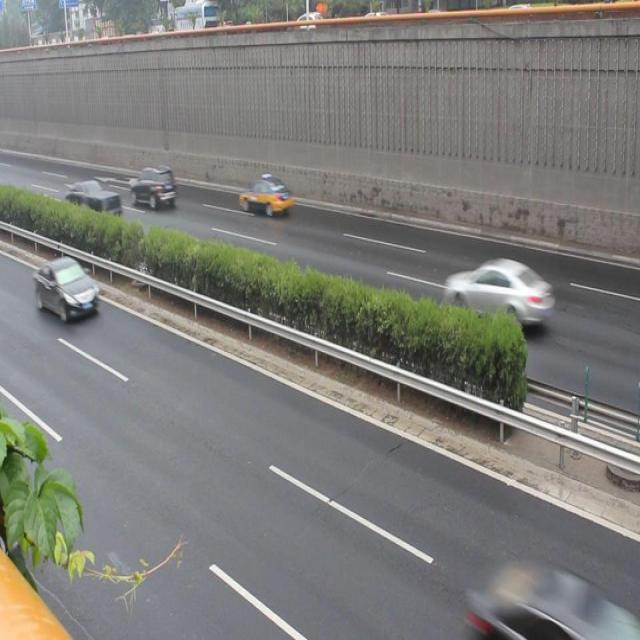car: (471, 557, 606, 640), (439, 253, 555, 343), (29, 250, 97, 326), (67, 171, 124, 225), (128, 160, 182, 212), (239, 170, 293, 220)
